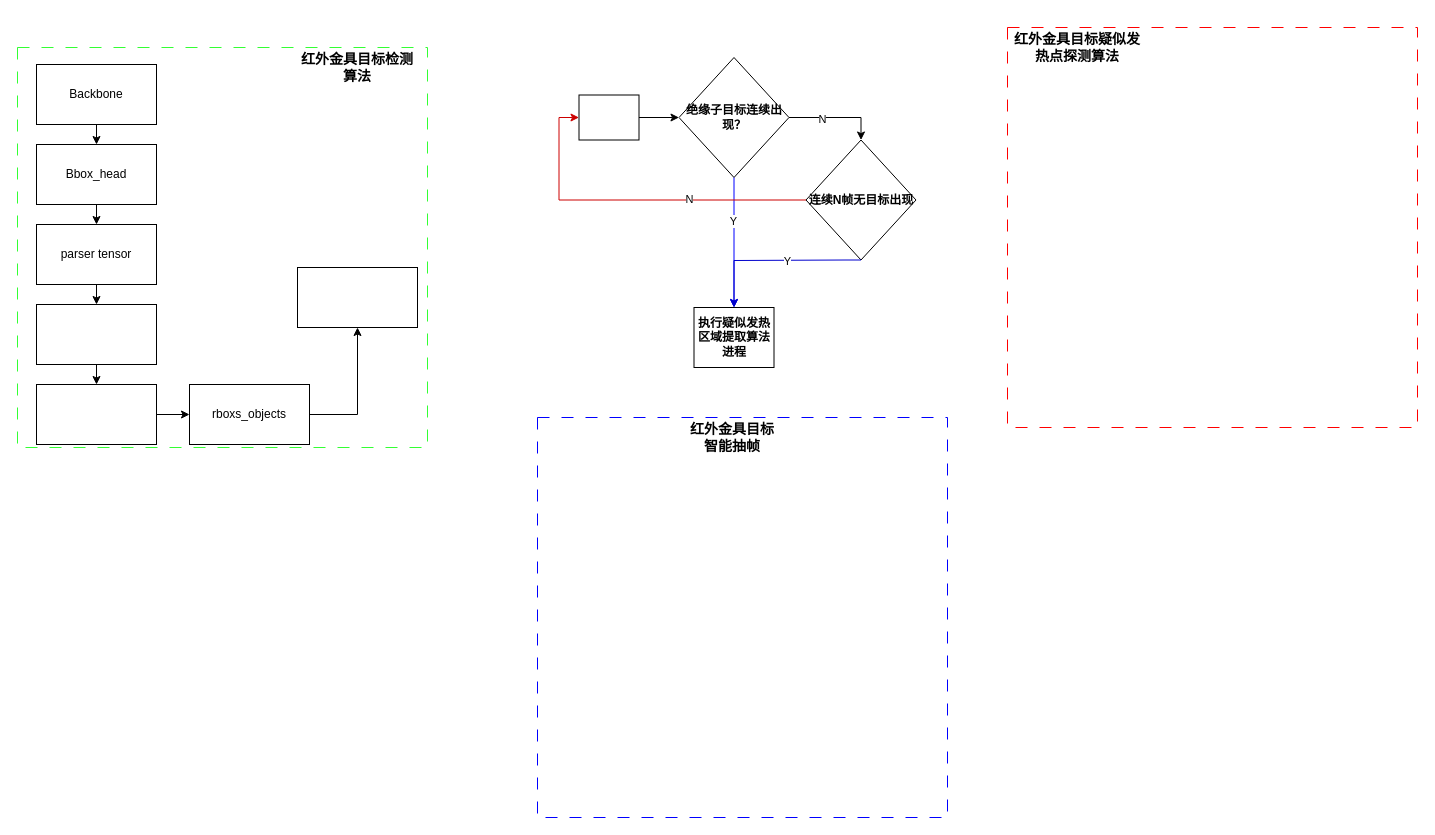
The diagram is 1435 pixels wide and 835 high, and some of its shapes have lost their labels. The box of each missing label's shape, as (x1, y1, x2, y2) in pixels:
filter_scores_topk: (36, 304, 156, 364)
Labels Specific Regions: (296, 266, 418, 328)
NMS: (36, 384, 156, 444)
提取绝缘子目标检测进程: (578, 94, 639, 140)
